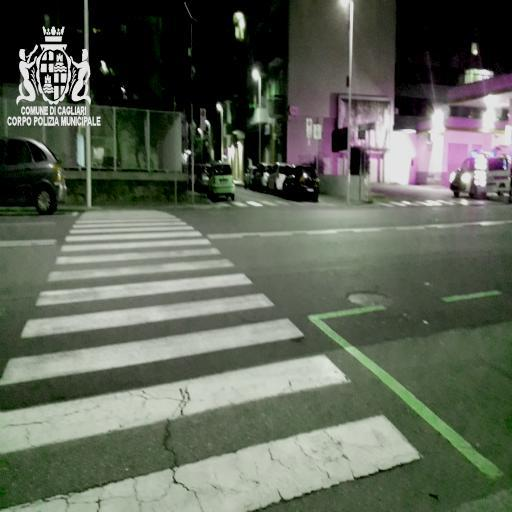crosswalk: (0, 356, 432, 512), (10, 271, 281, 342), (55, 236, 225, 262)
